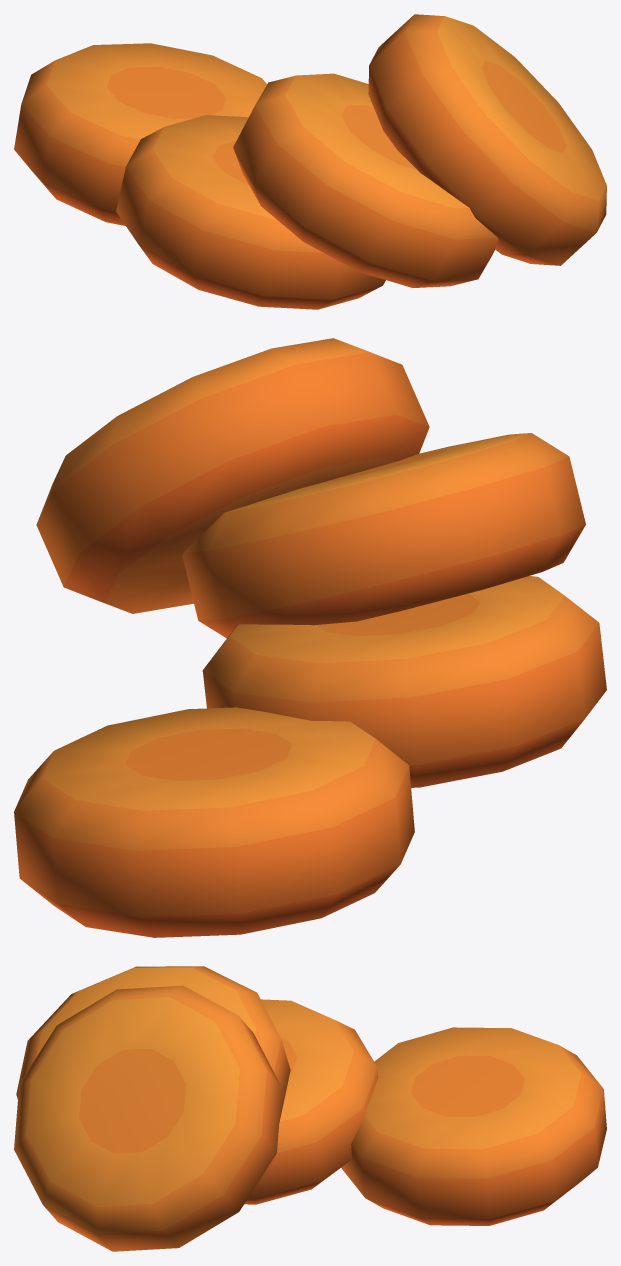
File: kay-food_ingredient_carrot_pieces.glb
The picture shows the model from 3 angles, top to bottom: view 1: azimuth 30°, elevation 25°; view 2: azimuth 150°, elevation 25°; view 3: azimuth 270°, elevation 25°; orthographic projection. The views are drawn at different scales.
Parts seen in each view (by area): view 1: food_ingredient_carrot_pieces; view 2: food_ingredient_carrot_pieces; view 3: food_ingredient_carrot_pieces.
Boxes of the visible parts, left/top/right/bottom form: food_ingredient_carrot_pieces: left=14, top=14, right=606, bottom=309; food_ingredient_carrot_pieces: left=14, top=338, right=606, bottom=937; food_ingredient_carrot_pieces: left=14, top=966, right=606, bottom=1251.
Size of the model in its own units: 0.1661 by 0.0987 by 0.22.
1 material, 1 textured.
